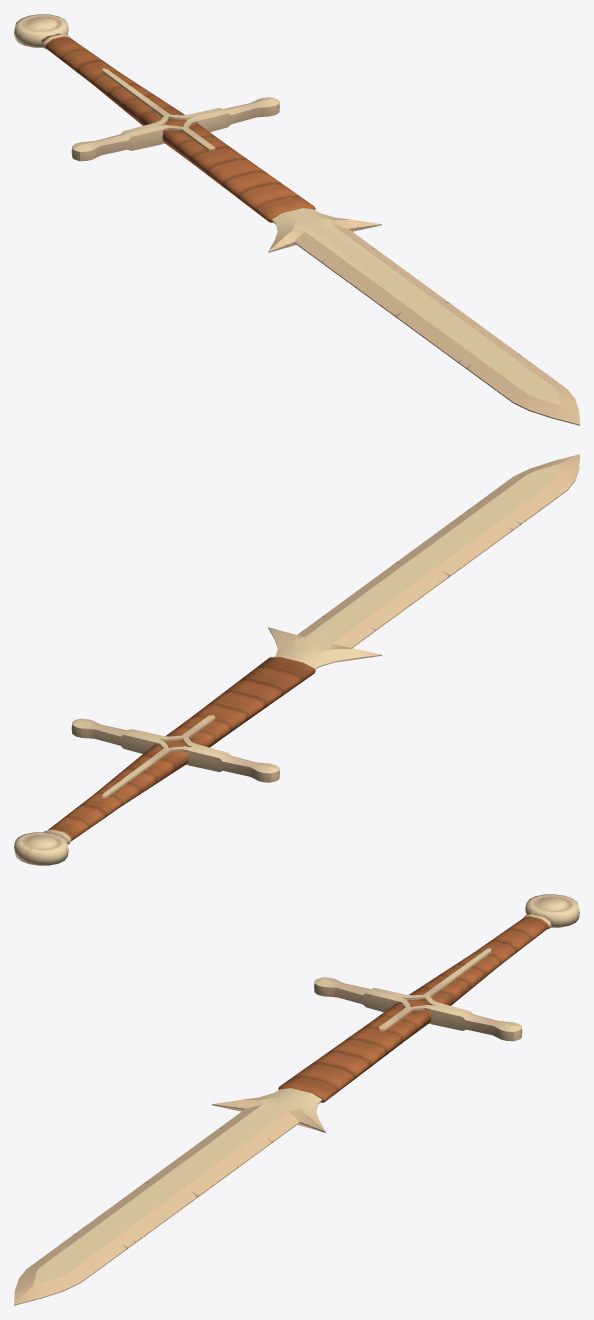
File: Othersword.fbx
The picture shows the model from 3 angles, top to bottom: view 1: azimuth 30°, elevation 25°; view 2: azimuth 150°, elevation 25°; view 3: azimuth 330°, elevation 25°; orthographic projection.
Visible parts, largest first — view 1: Cube.004, Cube, Cube.003, Cylinder; view 2: Cube.004, Cube, Cube.003, Cylinder; view 3: Cube.004, Cube, Cube.003, Cylinder.
Part boxes in pixels (x1,y1,x2,y2): Cube.004: [268, 208, 579, 425]; Cube: [45, 36, 315, 222]; Cube.003: [71, 68, 279, 161]; Cylinder: [14, 14, 68, 47]; Cube.004: [268, 454, 579, 669]; Cube: [48, 657, 315, 841]; Cube.003: [71, 715, 279, 798]; Cylinder: [14, 832, 68, 865]; Cube.004: [14, 1088, 325, 1305]; Cube: [278, 916, 548, 1102]; Cube.003: [314, 948, 522, 1041]; Cylinder: [525, 894, 579, 927].
Bounding box in the file's own units: 104 × 7.84 × 483.
